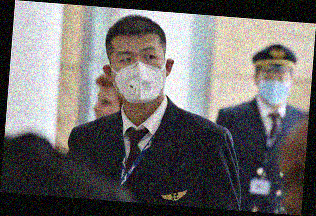with_mask: (109, 43, 167, 103), (257, 71, 292, 107)
